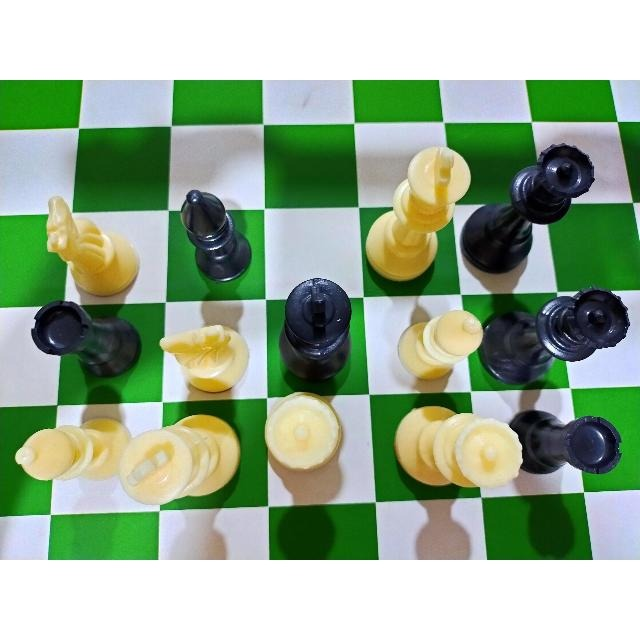black-bishop: (177, 185, 256, 285)
black-king: (277, 276, 354, 379)
black-queen: (472, 144, 600, 271), (480, 286, 631, 385)
black-rook: (514, 404, 628, 478), (30, 299, 142, 374)
white-bishop: (10, 419, 124, 487), (389, 308, 485, 384)
white-king: (366, 141, 468, 285), (124, 421, 243, 504)
white-knight: (40, 190, 144, 297), (156, 313, 252, 388)
white-queen: (388, 406, 522, 493), (258, 390, 348, 472)
